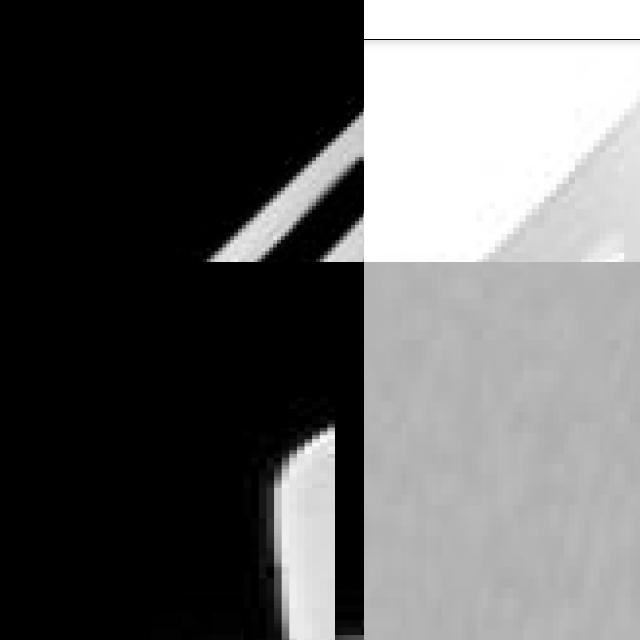forks: (0, 0, 364, 262), (364, 62, 640, 262), (136, 497, 364, 640)
